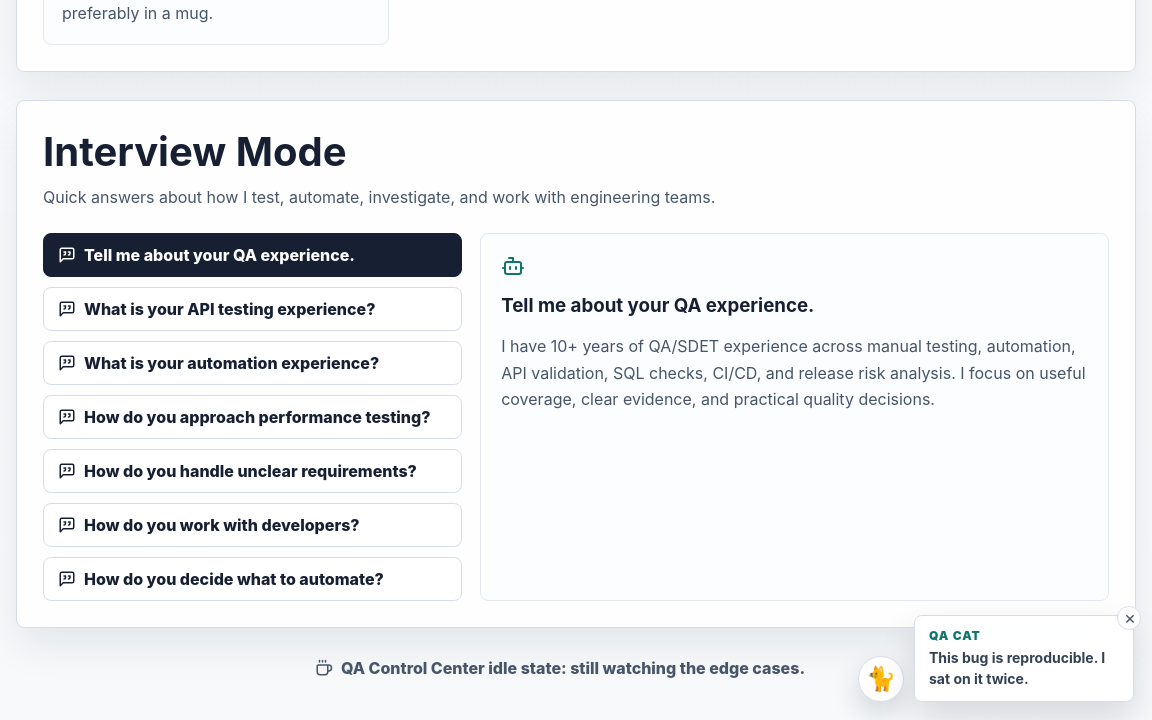
Test: Galina QA Control Center UI › shows interview answers from the question list
(page scrolled)
Click the button "How do you decide what to automate?" at (253, 579), box x1=43 y1=557 x2=462 y2=601
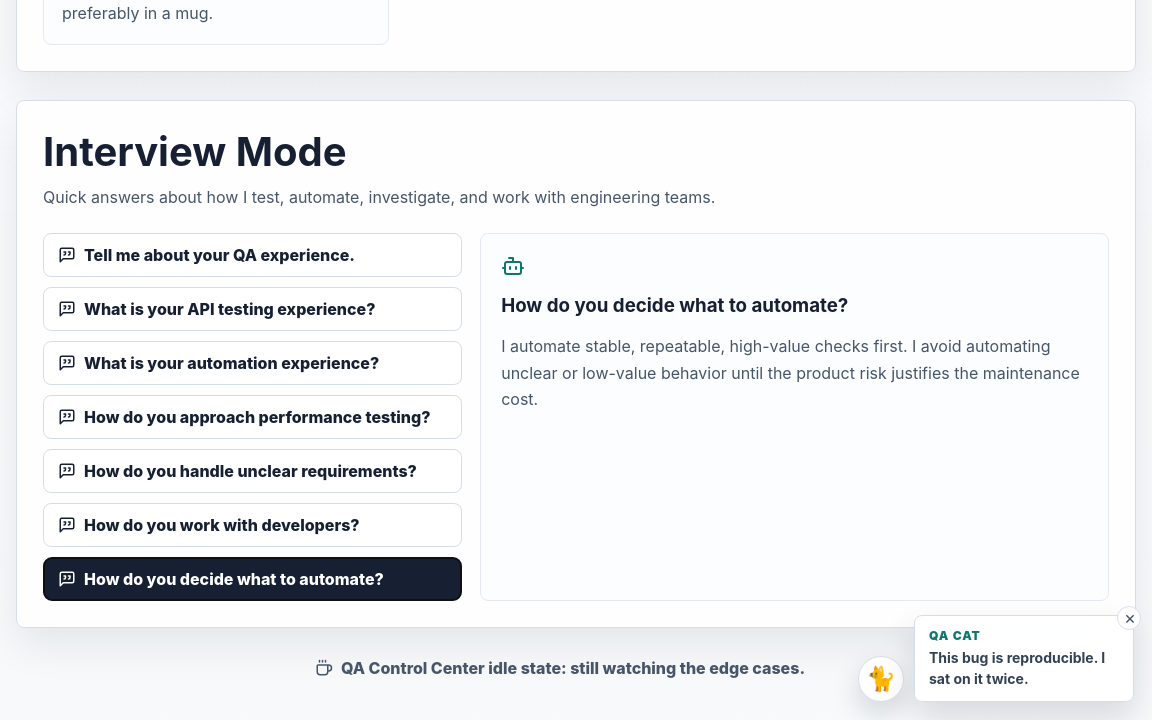
expect the text "I automate stable, repeatable, high-value checks first" is shown: met, box x1=501 y1=336 x2=1080 y2=409
